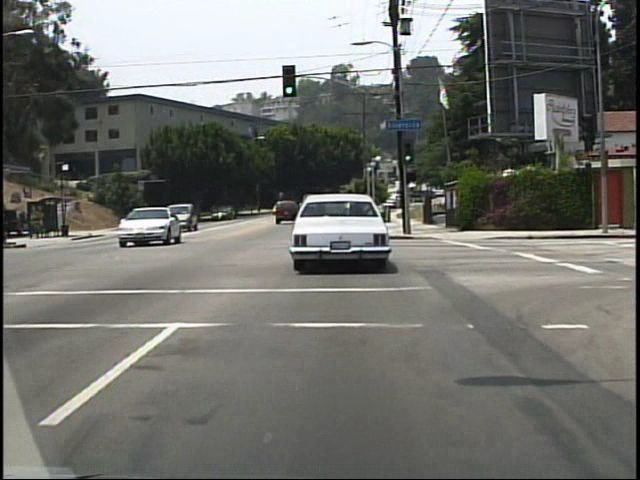person: (146, 209, 156, 228)
